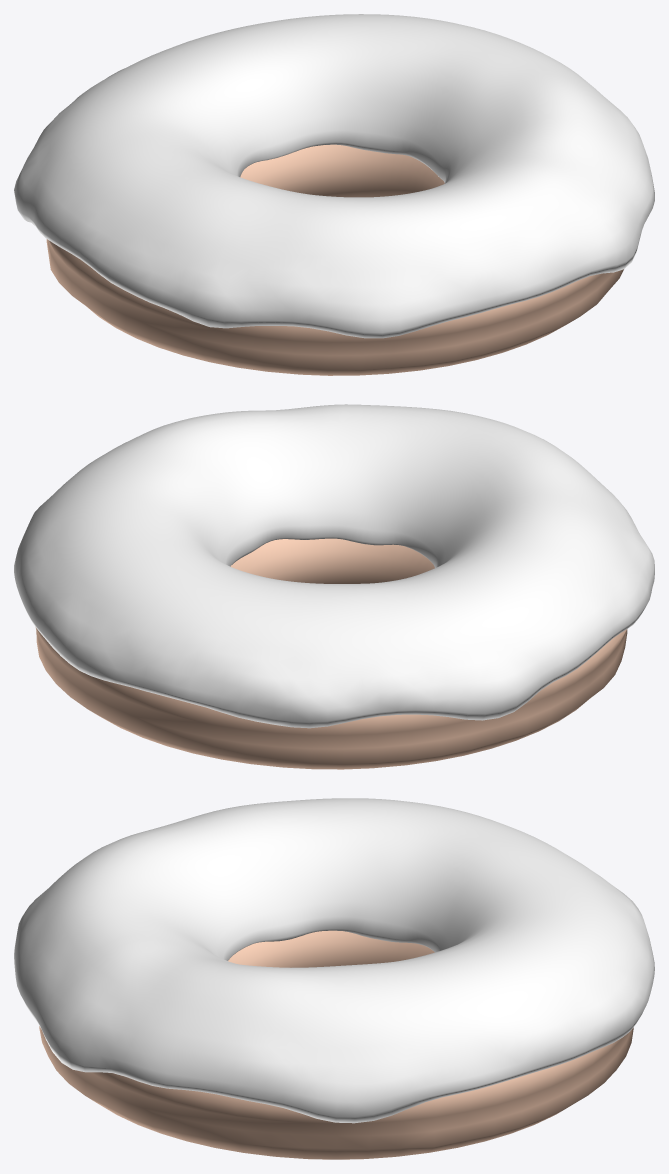
File: tutorial.dae
The picture shows the model from 3 angles, top to bottom: view 1: azimuth 30°, elevation 25°; view 2: azimuth 150°, elevation 25°; view 3: azimuth 270°, elevation 25°; orthographic projection.
Visible parts, largest first — view 1: icing_new, doughnut; view 2: icing_new, doughnut; view 3: icing_new, doughnut.
Boxes of the visible parts, left/top/right/bottom form: icing_new: left=14, top=14, right=654, bottom=338; doughnut: left=46, top=144, right=623, bottom=375; icing_new: left=14, top=404, right=654, bottom=728; doughnut: left=35, top=538, right=627, bottom=769; icing_new: left=14, top=798, right=654, bottom=1123; doughnut: left=39, top=930, right=633, bottom=1159.
Bounding box in the file's own units: 0.1184 × 0.1181 × 0.0351.
